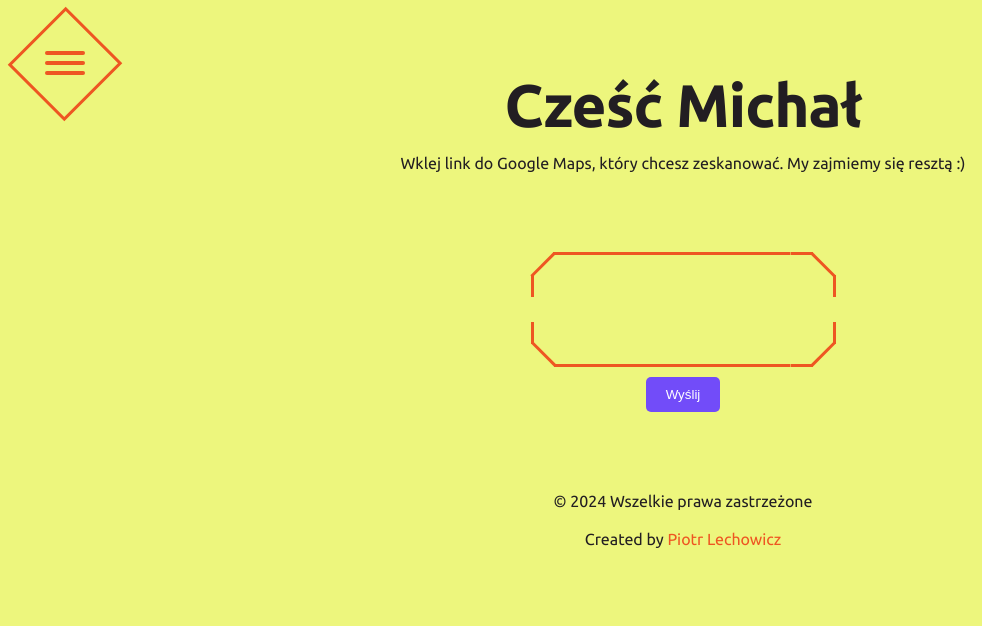
Scenario: Main page › displays error when submit button is clicked with an empty form
Click the button with test id "main-submit": (684, 395) [646,377,721,412]
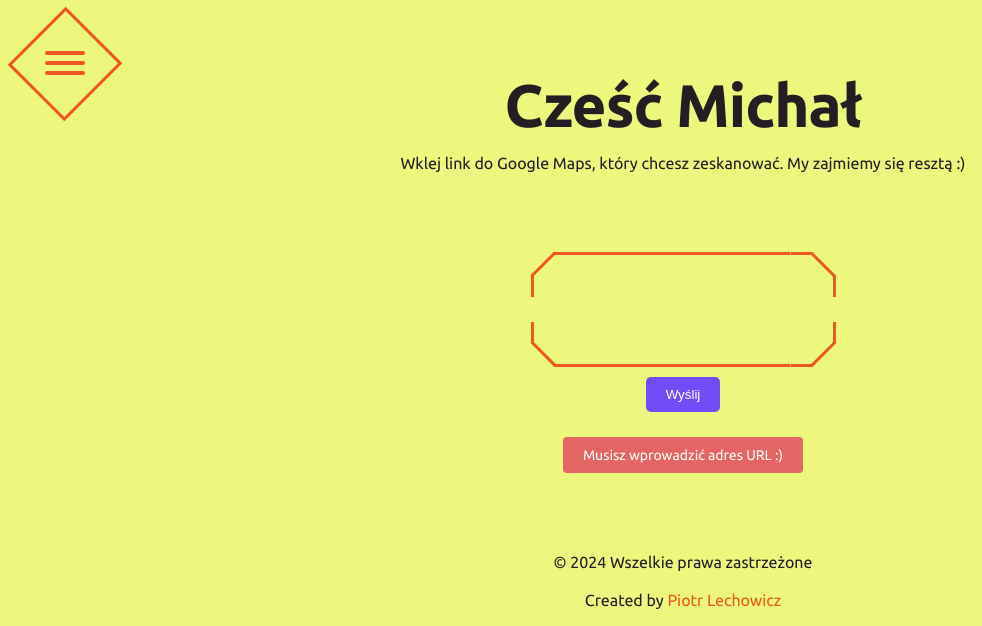
Now the text "Musisz wprowadzić adres URL :)" is shown, box [563,437,803,473]
